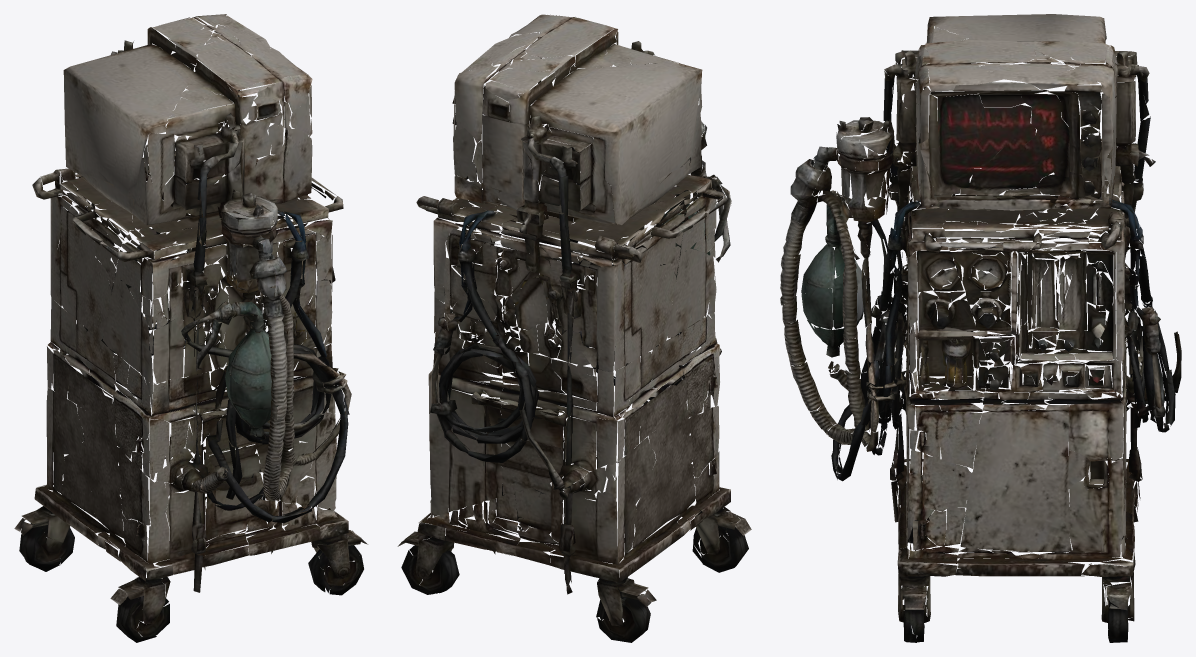
Rendered from p_life_support.glb.
3 renders of one model, left to right at view 1: azimuth 30°, elevation 25°; view 2: azimuth 150°, elevation 25°; view 3: azimuth 270°, elevation 25°, orthographic. The views are drawn at different scales.
Parts seen in each view (by area): view 1: tripo_node_d5731d6a-7493-413d-9696-a91650ecc88b; view 2: tripo_node_d5731d6a-7493-413d-9696-a91650ecc88b; view 3: tripo_node_d5731d6a-7493-413d-9696-a91650ecc88b.
Part boxes in pixels (bbox=[...]): tripo_node_d5731d6a-7493-413d-9696-a91650ecc88b: bbox=[14, 14, 368, 642]; tripo_node_d5731d6a-7493-413d-9696-a91650ecc88b: bbox=[397, 14, 751, 642]; tripo_node_d5731d6a-7493-413d-9696-a91650ecc88b: bbox=[780, 14, 1181, 642].
Size of the model in its own units: 0.4895 by 0.9806 by 0.6455.
Materials: 1 (1 with a texture image).
